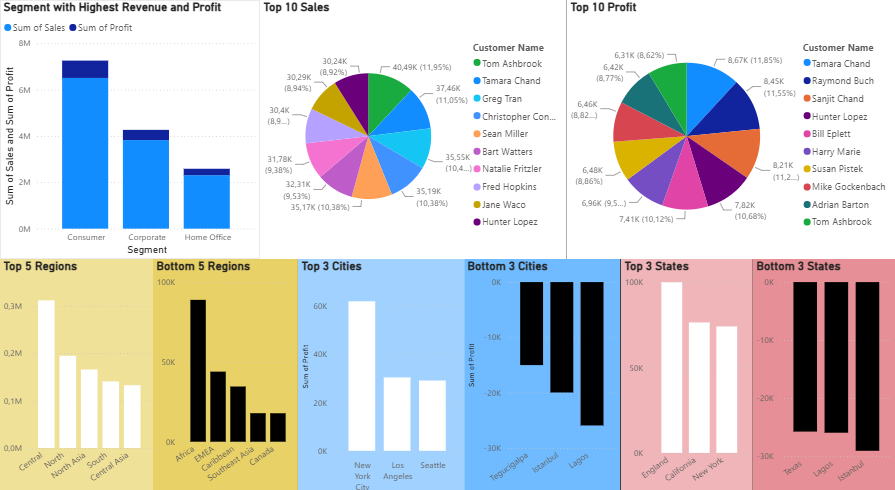

This screenshot's page, from the dashboard's own definition file:
{"tool":"powerbi","page":{"name":"Page 2","canvas":[1280,720],"ordinal":1},"visuals":[{"type":"columnChart","title":"Segment with Highest Revenue and Profit","fields":{"Category":["Sheet1.Segment"],"Y":["Sum(Sheet1.Sales)","Sum(Sheet1.Profit)"]},"box":[0,0,371.7,370],"z":0},{"type":"pieChart","title":"Top 10 Sales","fields":{"Category":["Sheet1.Customer Name"],"Y":["Sum(Sheet1.Sales)"]},"box":[371.7,0,438.3,370],"z":1000},{"type":"pieChart","title":"Top 10 Profit","fields":{"Category":["Sheet1.Customer Name"],"Y":["Sum(Sheet1.Profit)"]},"box":[810,0,470,370],"z":2000},{"type":"clusteredColumnChart","title":"Top 5 Regions","fields":{"Category":["Sheet1.Region"],"Y":["Sum(Sheet1.Profit)"]},"box":[0,370,218.9,350],"z":3000},{"type":"clusteredColumnChart","title":"Bottom 3 Cities","fields":{"Category":["Sheet1.City"],"Y":["Sum(Sheet1.Profit)"]},"box":[663.3,370,223.3,350],"z":4000},{"type":"clusteredColumnChart","title":"Bottom 5 Regions","fields":{"Category":["Sheet1.Region"],"Y":["Sum(Sheet1.Profit)"]},"box":[218.9,370,206.7,350],"z":5000},{"type":"clusteredColumnChart","title":"Top 3 Cities","fields":{"Category":["Sheet1.City"],"Y":["Sum(Sheet1.Profit)"]},"box":[425,370,238.3,350],"z":6000},{"type":"clusteredColumnChart","title":"Top 3 States","fields":{"Category":["Sheet1.State"],"Y":["Sum(Sheet1.Profit)"]},"box":[886.7,370,188.3,350],"z":7000},{"type":"clusteredColumnChart","title":"Bottom 3 States","fields":{"Category":["Sheet1.State"],"Y":["Sum(Sheet1.Profit)"]},"box":[1075,370,205,350],"z":8000}]}

Visuals, with their boxes in screenshot pixels (x1, y1, x2, y2), scaled from the page's 1280x720 canvas onto the 895x490 screenshot:
"Segment with Highest Revenue and Profit" columnChart: box=[0, 0, 260, 252]
"Top 10 Sales" pieChart: box=[260, 0, 566, 252]
"Top 10 Profit" pieChart: box=[566, 0, 894, 252]
"Top 5 Regions" clusteredColumnChart: box=[0, 252, 153, 489]
"Bottom 3 Cities" clusteredColumnChart: box=[464, 252, 620, 489]
"Bottom 5 Regions" clusteredColumnChart: box=[153, 252, 298, 489]
"Top 3 Cities" clusteredColumnChart: box=[297, 252, 464, 489]
"Top 3 States" clusteredColumnChart: box=[620, 252, 752, 489]
"Bottom 3 States" clusteredColumnChart: box=[752, 252, 894, 489]
